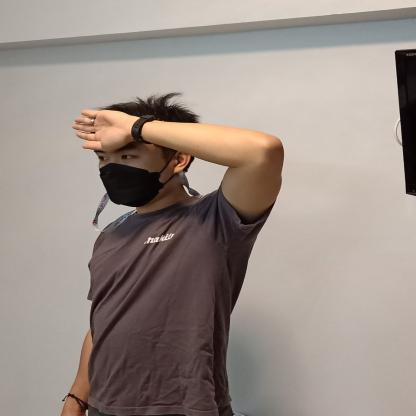Sick: (58, 103, 294, 222)
